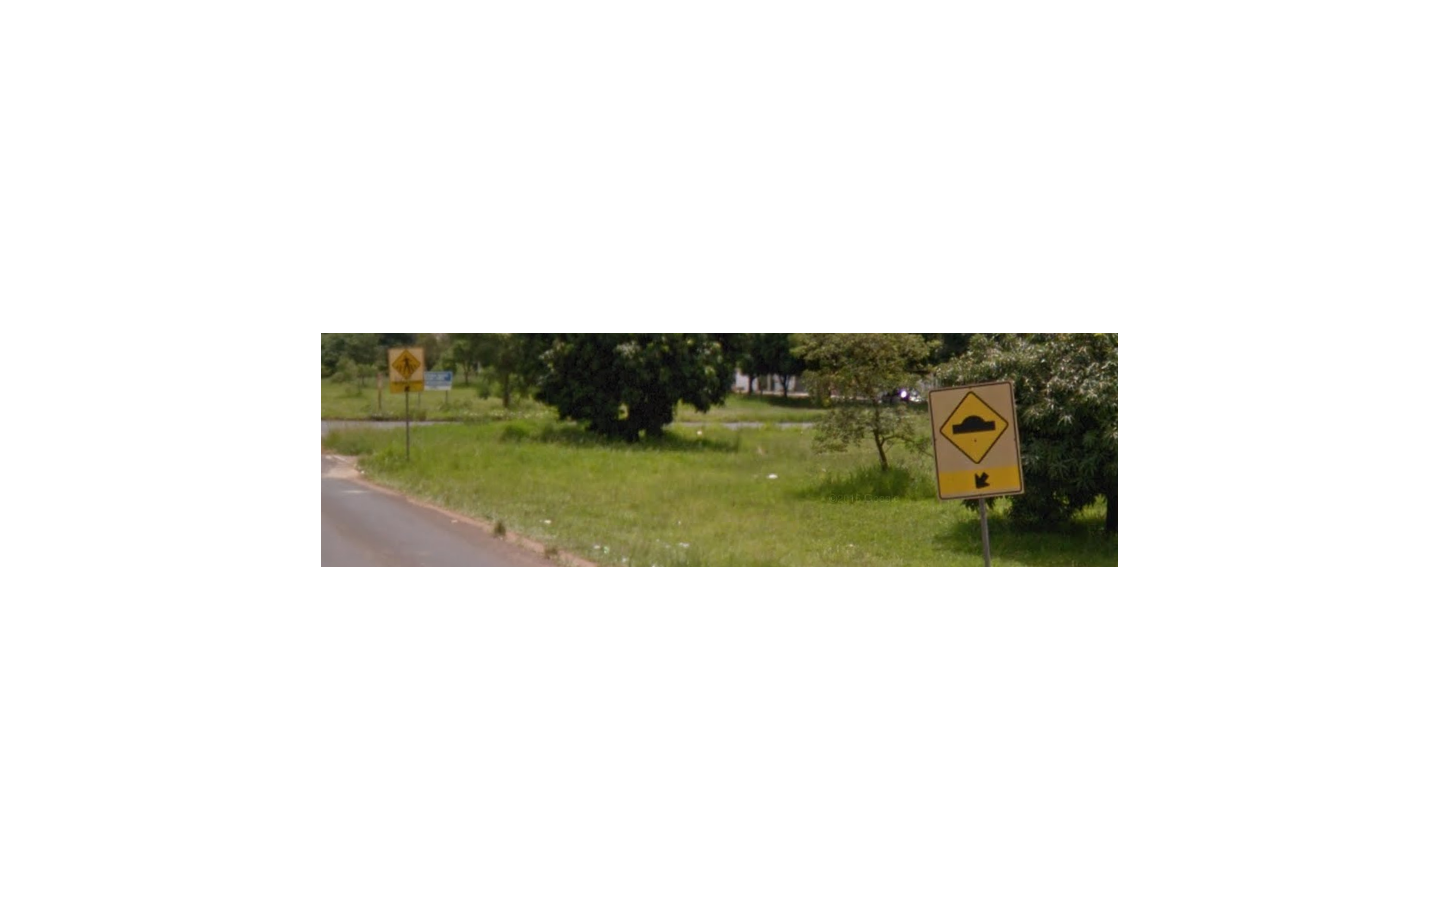lomb: (928, 379, 1024, 501)
telev: (387, 346, 424, 394)
